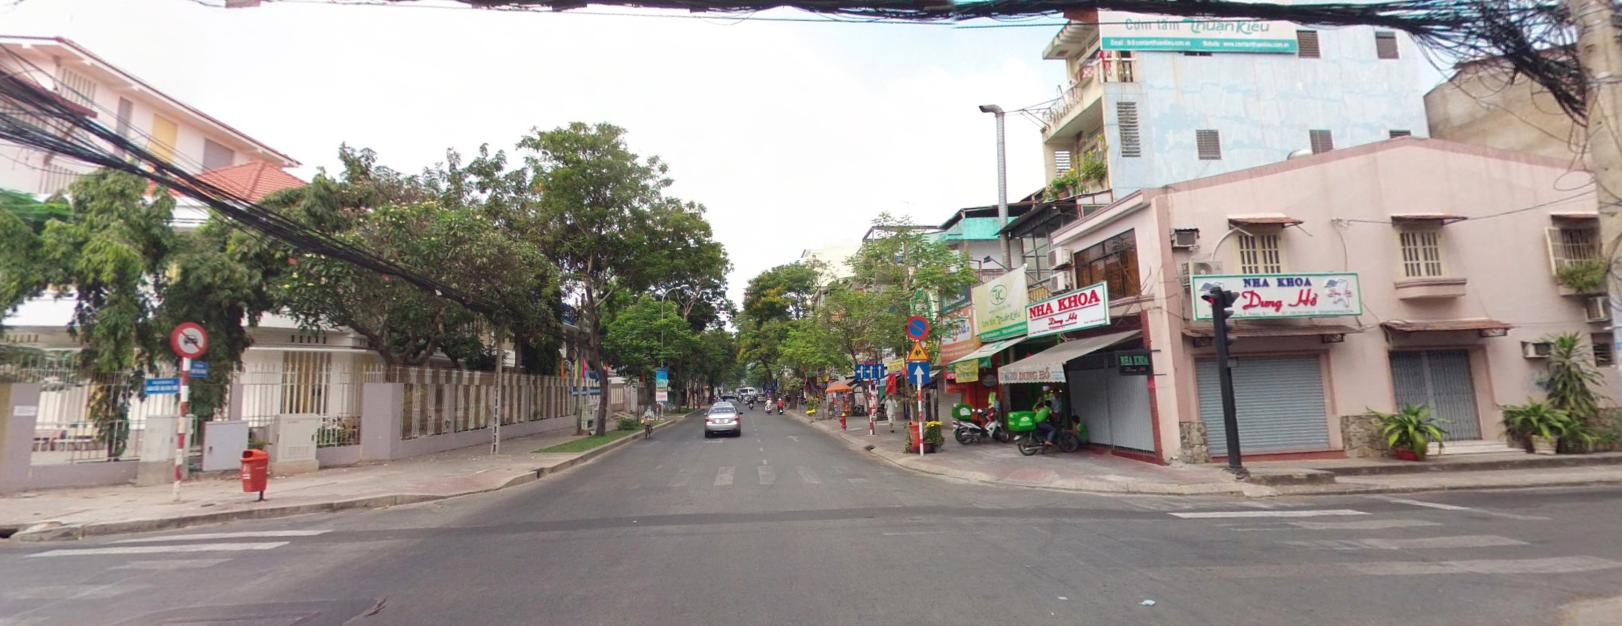Cam con lai: (171, 319, 207, 354)
Cam dung va do: (904, 314, 928, 338)
Nguy hiem: (905, 339, 930, 359)
